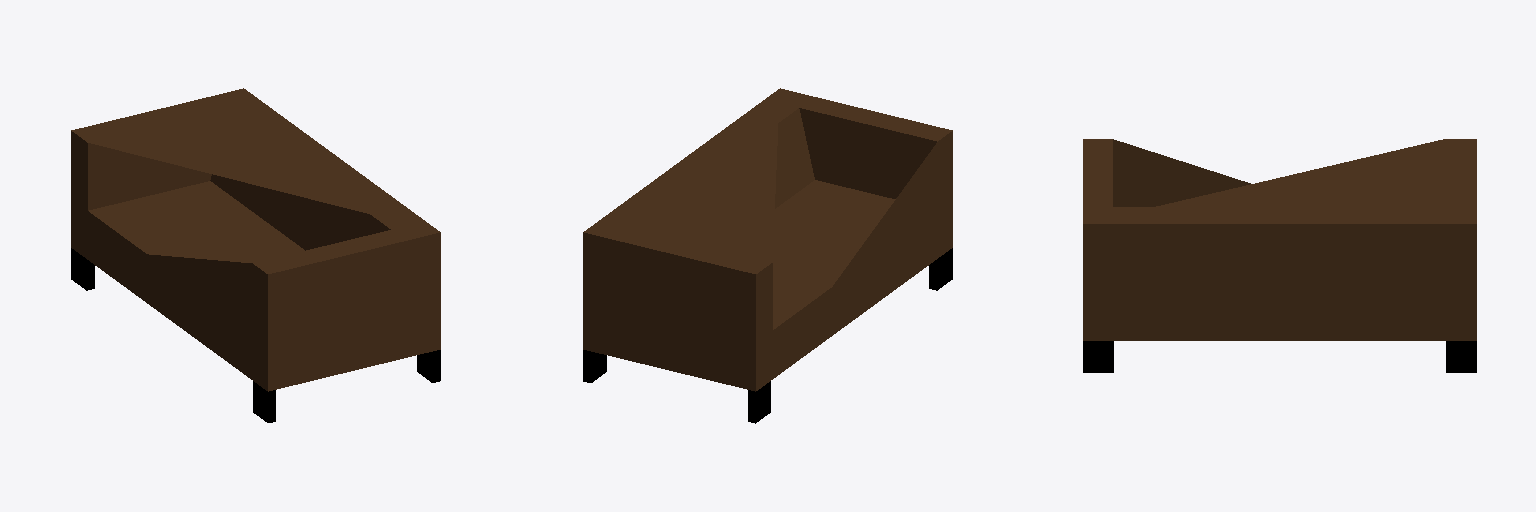
File: SofaLeather.obj
3 renders of one model, left to right at view 1: azimuth 30°, elevation 25°; view 2: azimuth 150°, elevation 25°; view 3: azimuth 270°, elevation 25°, orthographic.
Visible parts, largest first — view 1: SofaLeather; view 2: SofaLeather; view 3: SofaLeather.
Boxes of the visible parts, <box> form: SofaLeather: <box>71,88,440,422</box>; SofaLeather: <box>583,88,952,423</box>; SofaLeather: <box>1083,139,1476,372</box>.
Bounding box in the file's own units: 85 × 70 × 167.